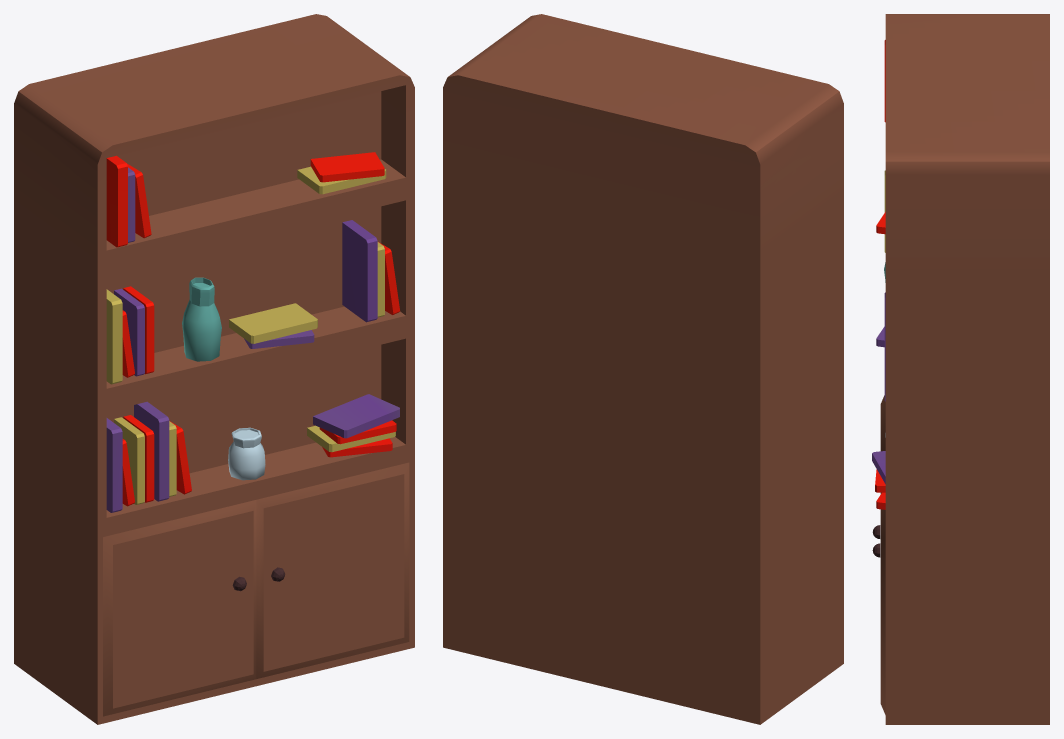
File: libreria.fbx
The picture shows the model from 3 angles, left to right: view 1: azimuth 30°, elevation 25°; view 2: azimuth 150°, elevation 25°; view 3: azimuth 270°, elevation 25°; orthographic projection.
Parts seen in each view (by area): view 1: Libreria; view 2: Libreria; view 3: Libreria.
Part boxes in pixels (x1,y1,x2,y2): Libreria: (14,14,414,724); Libreria: (443,14,843,724); Libreria: (872,14,1049,724).
Size of the model in its own units: 2.83 by 4.91 by 1.4.
